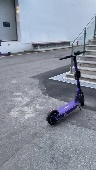beam: (45, 49, 87, 126)
